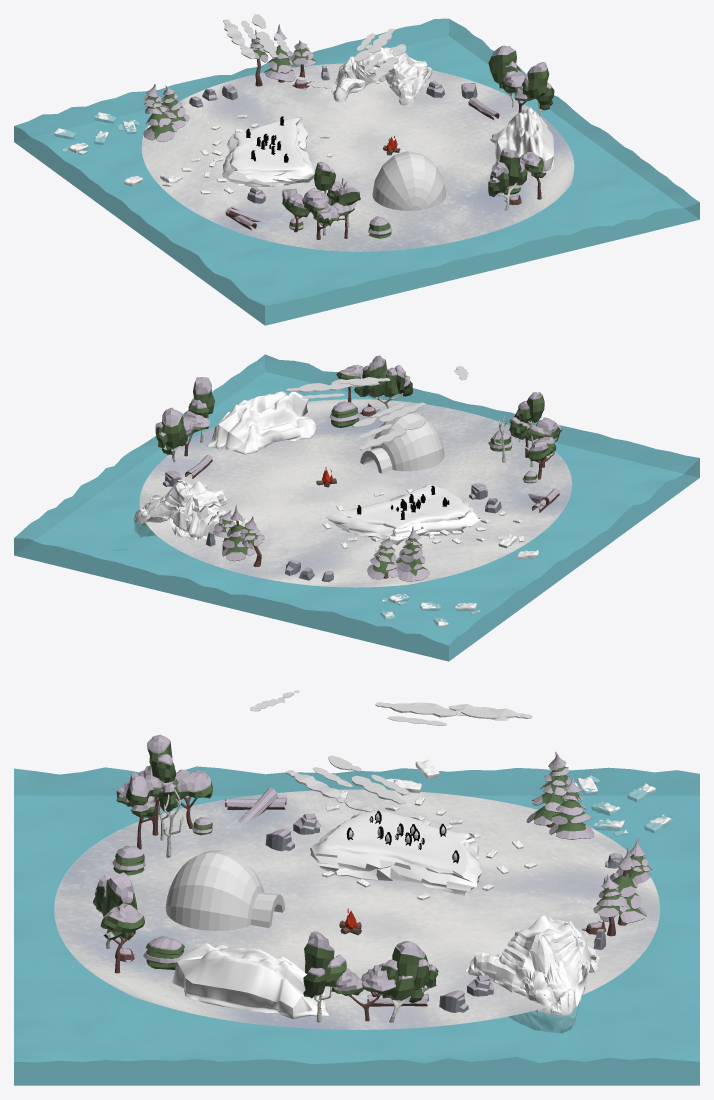
Rendered from level_1_snow_biome.fbx.
3 views of the same model, one above another, from view 1: azimuth 30°, elevation 25°; view 2: azimuth 150°, elevation 25°; view 3: azimuth 270°, elevation 25° (orthographic). The views are drawn at different scales.
Parts seen in each view (by area): view 1: Box001, Cube, Box005, Sphere, Box002, Box004, Plane.012, BirchTree_Snow_4, PineTree_Snow_3, Plane.005, BirchTree_Snow_3, CommonTree_Snow_2 (+9 smaller); view 2: Box001, Cube, Box005, Box004, Box002, Sphere, BirchTree_Snow_4, Plane.012, BirchTree_Snow_1, PineTree_Snow_3, BirchTree_Snow_5, Plane.005 (+8 smaller); view 3: Box001, Cube, Box005, Box002, Box004, Sphere, BirchTree_Snow_1, Plane.005, Plane.012, BirchTree_Snow_3, BirchTree_Snow_5, PineTree_Snow_1 (+12 smaller).
Boxes of the visible parts, bbox=[...] form: Box001: bbox=[14, 18, 699, 325]; Cube: bbox=[141, 63, 574, 251]; Box005: bbox=[222, 117, 314, 186]; Sphere: bbox=[372, 151, 446, 210]; Box002: bbox=[331, 46, 432, 106]; Box004: bbox=[490, 107, 554, 173]; Plane.012: bbox=[223, 14, 332, 88]; BirchTree_Snow_4: bbox=[488, 148, 527, 210]; PineTree_Snow_3: bbox=[143, 84, 177, 141]; Plane.005: bbox=[354, 28, 406, 81]; BirchTree_Snow_3: bbox=[522, 62, 554, 116]; CommonTree_Snow_2: bbox=[302, 188, 339, 239]; Box001: bbox=[14, 354, 699, 661]; Cube: bbox=[139, 399, 572, 587]; Box005: bbox=[325, 484, 481, 545]; Box004: bbox=[206, 391, 316, 454]; Box002: bbox=[134, 479, 248, 540]; Sphere: bbox=[360, 413, 444, 473]; BirchTree_Snow_4: bbox=[354, 355, 412, 413]; Plane.012: bbox=[352, 366, 468, 450]; BirchTree_Snow_1: bbox=[155, 407, 187, 462]; PineTree_Snow_3: bbox=[396, 526, 429, 581]; BirchTree_Snow_5: bbox=[509, 392, 544, 467]; Plane.005: bbox=[286, 377, 390, 398]; Box001: bbox=[14, 766, 699, 1085]; Cube: bbox=[54, 789, 659, 1029]; Box005: bbox=[310, 809, 482, 896]; Box002: bbox=[465, 914, 599, 1032]; Box004: bbox=[171, 942, 329, 1019]; Sphere: bbox=[165, 850, 284, 930]; BirchTree_Snow_1: bbox=[381, 941, 438, 1022]; Plane.005: bbox=[285, 755, 410, 812]; Plane.012: bbox=[250, 690, 532, 725]; BirchTree_Snow_3: bbox=[303, 931, 346, 1022]; BirchTree_Snow_5: bbox=[147, 734, 179, 840]; PineTree_Snow_1: bbox=[549, 777, 594, 839].
Bounding box in the file's own units: 30470 × 9531 × 30470.
Materials: 100 (1 with a texture image).
